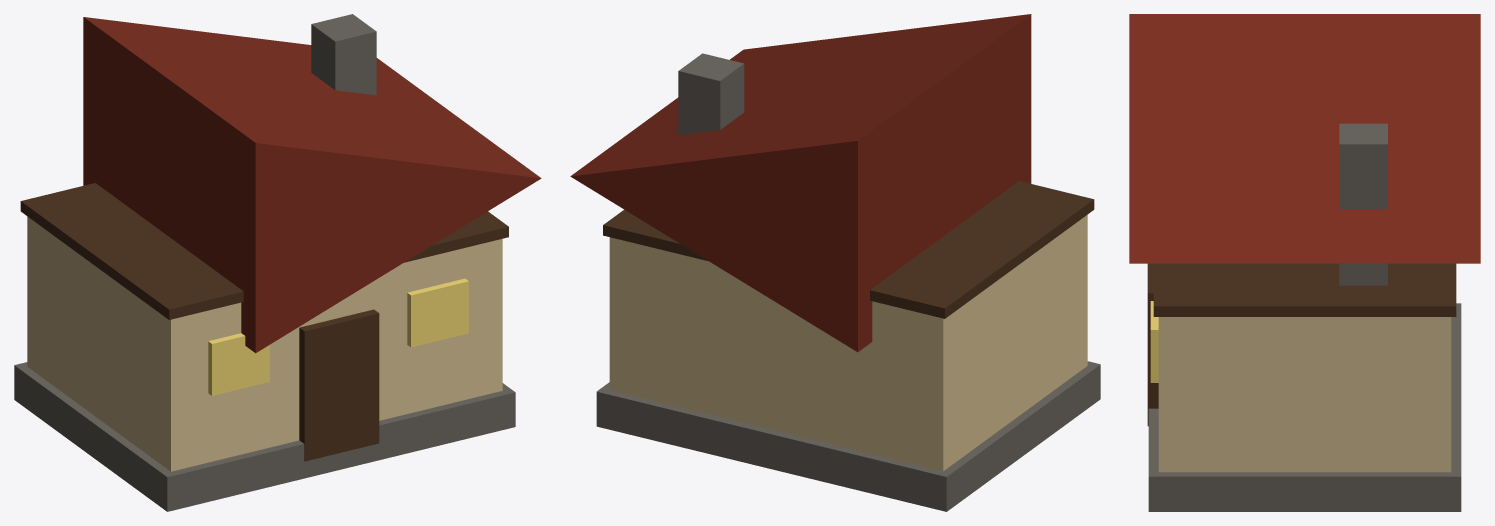
Rendered from prop_farmhouse.glb.
3 views of the same model, side by side, from view 1: azimuth 30°, elevation 25°; view 2: azimuth 150°, elevation 25°; view 3: azimuth 270°, elevation 25° (orthographic).
Visible parts, largest first — view 1: roof, walls, base, trim, door, chimney, window_r, window_l; view 2: roof, walls, base, trim, chimney; view 3: roof, walls, trim, base, chimney, door, window_r.
Boxes of the visible parts, x1,y1,x2,y2 form: roof: (83,17,541,353); walls: (27,216,502,471); base: (14,362,515,511); trim: (20,183,508,319); door: (299,309,379,461); chimney: (311,14,376,95); window_r: (407,278,468,347); window_l: (208,333,269,395); roof: (570,14,1031,352); walls: (609,215,1087,471); base: (596,361,1100,511); trim: (603,181,1094,318); chimney: (678,53,744,135); roof: (1129,14,1480,263); walls: (1158,317,1451,472); trim: (1153,263,1456,316); base: (1148,303,1461,511); chimney: (1339,123,1387,285); door: (1147,263,1158,426); window_r: (1150,301,1158,382).
Size of the model in its own units: 4.4 by 4.11 by 3.6.
